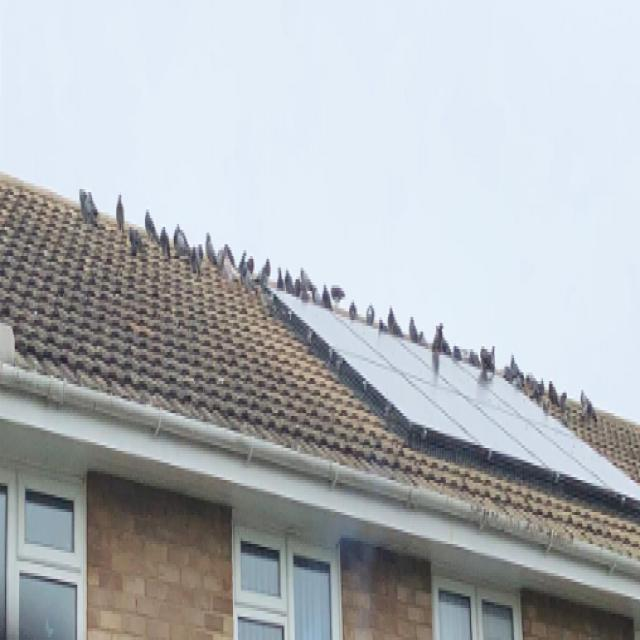bird: (79, 187, 98, 227), (173, 223, 191, 260), (128, 224, 141, 257), (159, 226, 171, 260), (205, 232, 217, 266), (115, 192, 125, 232)
